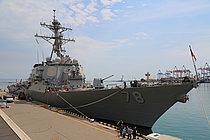MIL_Ship: (18, 8, 200, 129)
